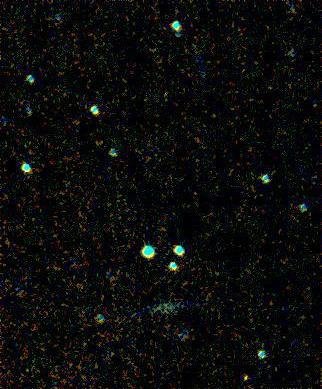star: (228, 363, 258, 389)
